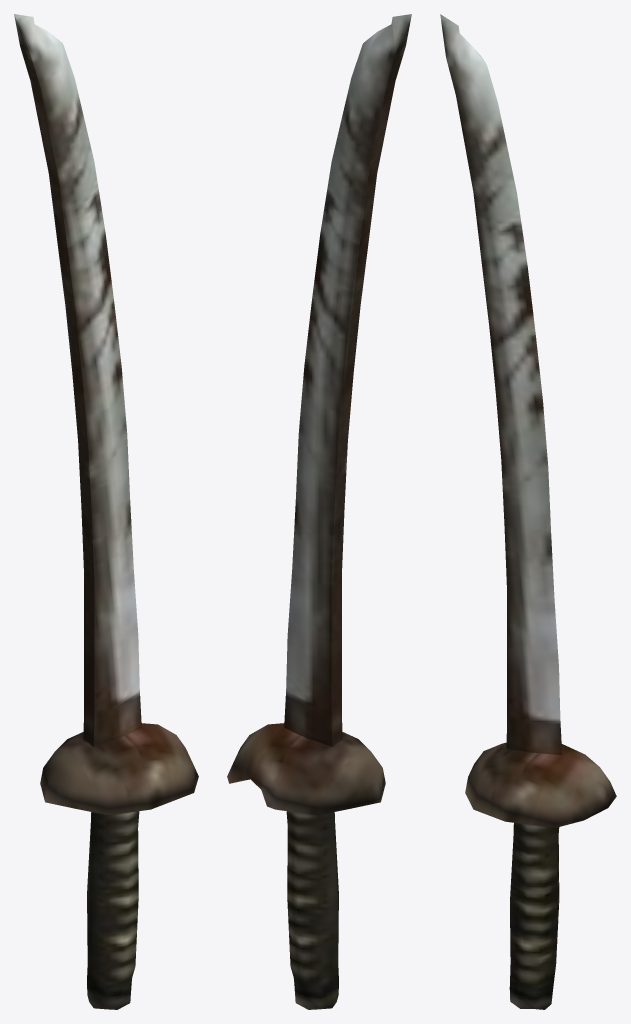
File: weapon-honed-frenzy.glb
3 views of the same model, side by side, from view 1: azimuth 30°, elevation 25°; view 2: azimuth 150°, elevation 25°; view 3: azimuth 330°, elevation 25° (orthographic). The views are drawn at different scales.
Parts seen in each view (by area): view 1: katanaG_MDL_q; view 2: katanaG_MDL_q; view 3: katanaG_MDL_q.
Boxes of the visible parts, bbox=[...] form: katanaG_MDL_q: bbox=[14, 14, 198, 1009]; katanaG_MDL_q: bbox=[227, 14, 411, 1009]; katanaG_MDL_q: bbox=[440, 14, 616, 1009].
Bounding box in the file's own units: 0.2356 × 1.3 × 0.1596.
Materials: 1 (1 with a texture image).
